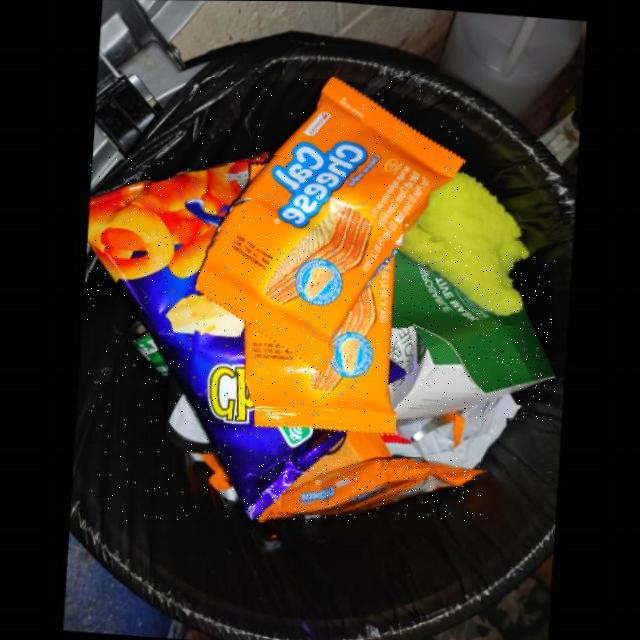paper: (387, 252, 555, 422)
wrapper: (86, 156, 346, 522), (193, 78, 464, 372), (242, 257, 395, 434), (254, 458, 482, 521)
